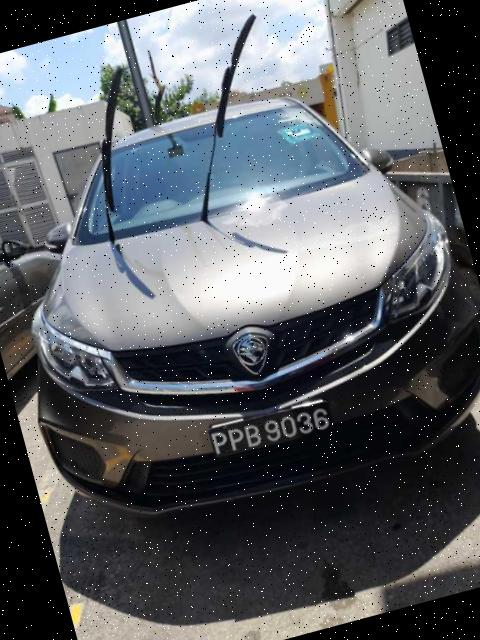License_Plate: (207, 396, 336, 463)
car: (1, 1, 480, 552)
